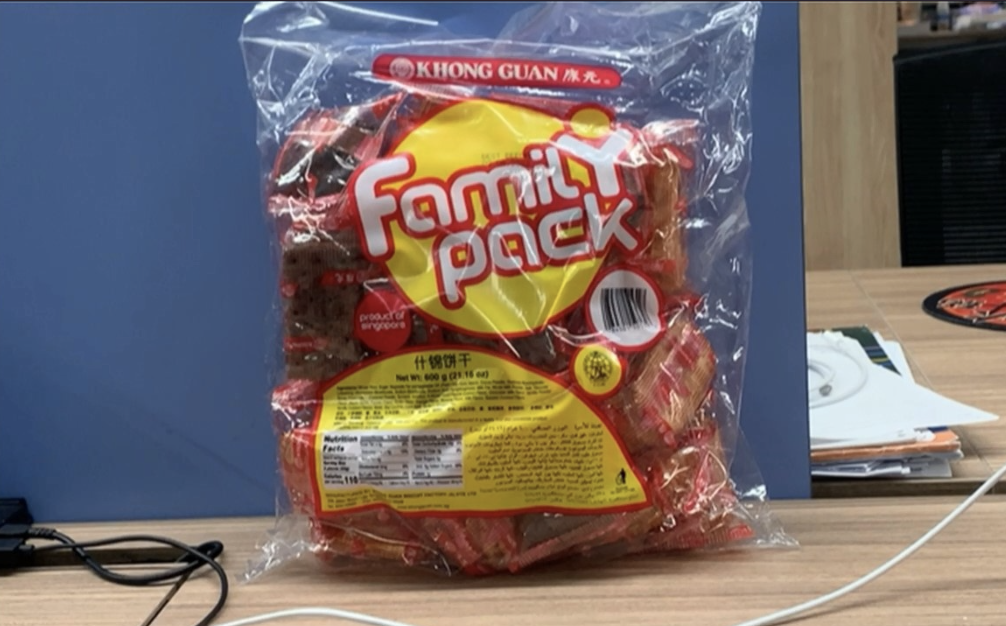cookies_550g: (307, 55, 704, 519)
